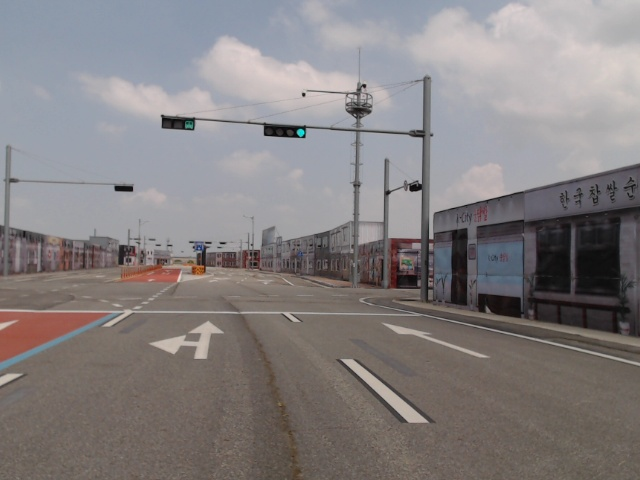straight_green_4: (264, 124, 306, 138)
